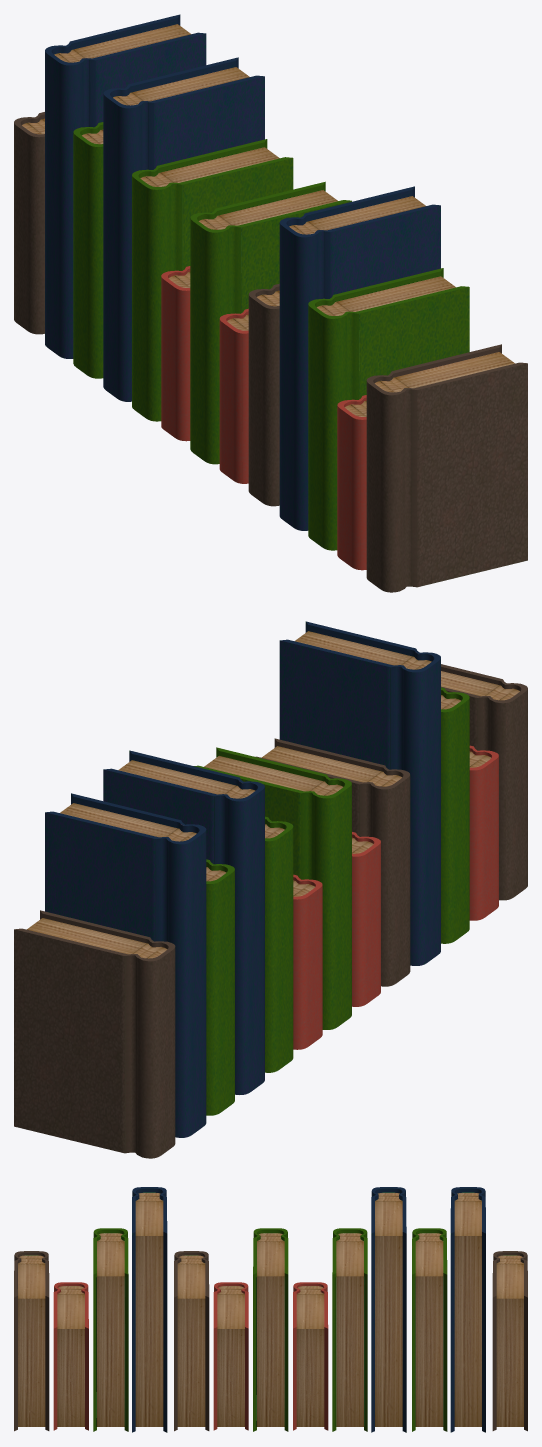
The model's file is Books.FBX.
The picture shows the model from 3 angles, top to bottom: view 1: azimuth 30°, elevation 25°; view 2: azimuth 150°, elevation 25°; view 3: azimuth 270°, elevation 25°; orthographic projection. The views are drawn at different scales.
Parts seen in each view (by area): view 1: Box010, Box007, Box017, Box012, Box020, Box016, Box015, Box019, Box014, Box021, Box018, Box009 (+1 smaller); view 2: Box021, Box020, Box007, Box017, Box015, Box014, Box010, Box019, Box012, Box016, Box009, Box018 (+1 smaller); view 3: Box017, Box020, Box007, Box015, Box016, Box012, Box019, Box010, Box021, Box014, Box013, Box009 (+1 smaller).
Boxes of the visible parts, left/top/right/bottom form: Box010: left=366, top=344, right=527, bottom=592; Box007: left=279, top=186, right=440, bottom=530; Box017: left=103, top=57, right=264, bottom=401; Box012: left=308, top=268, right=469, bottom=550; Box020: left=45, top=14, right=206, bottom=358; Box016: left=132, top=139, right=293, bottom=421; Box015: left=190, top=181, right=351, bottom=464; Box019: left=73, top=122, right=103, bottom=378; Box014: left=248, top=283, right=279, bottom=506; Box021: left=14, top=112, right=44, bottom=334; Box018: left=161, top=266, right=190, bottom=441; Box009: left=337, top=395, right=366, bottom=570; Box021: left=14, top=910, right=175, bottom=1158; Box020: left=45, top=793, right=206, bottom=1137; Box007: left=279, top=621, right=440, bottom=965; Box017: left=103, top=750, right=264, bottom=1094; Box015: left=194, top=747, right=351, bottom=1029; Box014: left=255, top=738, right=410, bottom=986; Box010: left=441, top=664, right=527, bottom=900; Box019: left=206, top=859, right=234, bottom=1115; Box012: left=441, top=687, right=469, bottom=943; Box016: left=265, top=816, right=293, bottom=1072; Box009: left=469, top=745, right=498, bottom=920; Box018: left=293, top=874, right=322, bottom=1049; Box017: left=371, top=1187, right=406, bottom=1432; Box020: left=450, top=1187, right=485, bottom=1432; Box007: left=132, top=1187, right=167, bottom=1432; Box015: left=253, top=1228, right=288, bottom=1431; Box016: left=332, top=1228, right=367, bottom=1431; Box012: left=93, top=1228, right=128, bottom=1431; Box019: left=412, top=1228, right=447, bottom=1431; Box010: left=14, top=1251, right=49, bottom=1431; Box021: left=492, top=1251, right=527, bottom=1431; Box014: left=174, top=1251, right=209, bottom=1431; Box013: left=213, top=1282, right=248, bottom=1430; Box009: left=53, top=1282, right=88, bottom=1430.
Bounding box in the file's own units: 26.85 × 53.74 × 126.
Materials: 4 (4 with a texture image).
